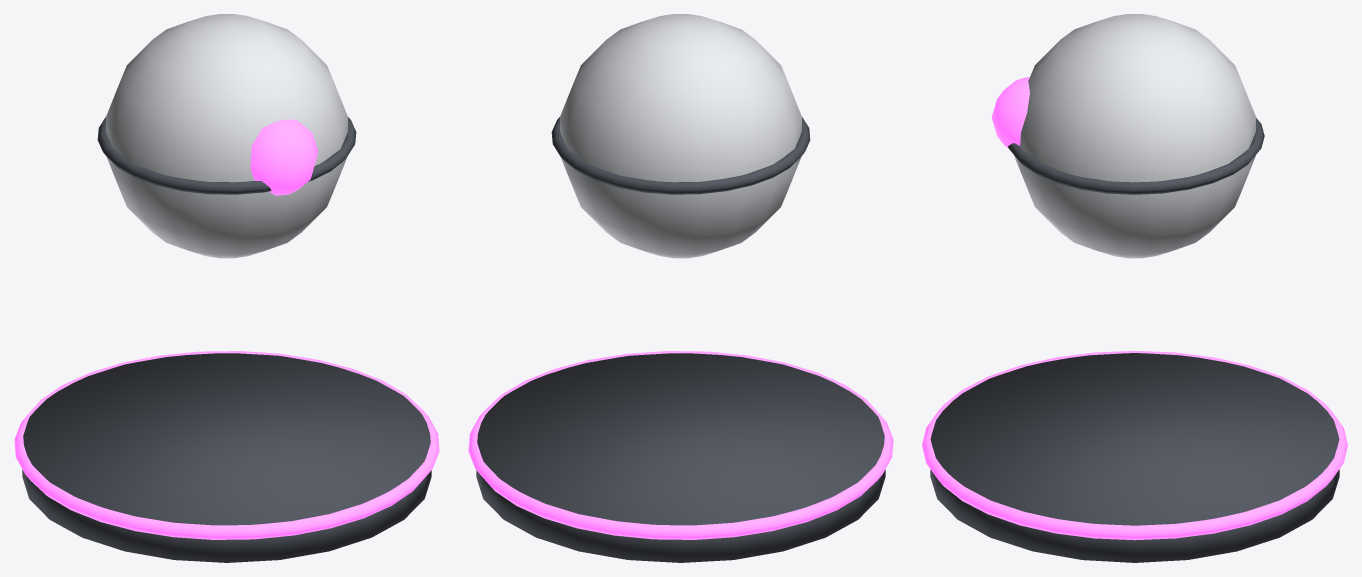
Rendered from drone_dock_orb_bot.glb.
3 renders of one model, left to right at view 1: azimuth 30°, elevation 25°; view 2: azimuth 150°, elevation 25°; view 3: azimuth 270°, elevation 25°, orthographic.
Visible parts, largest first — view 1: GD_drone_dock_orb_bot__m0, GD_drone_dock_orb_bot__m2, GD_drone_dock_orb_bot__m1; view 2: GD_drone_dock_orb_bot__m0, GD_drone_dock_orb_bot__m2, GD_drone_dock_orb_bot__m1; view 3: GD_drone_dock_orb_bot__m0, GD_drone_dock_orb_bot__m2, GD_drone_dock_orb_bot__m1.
Part boxes in pixels (left/top/right/bottom): GD_drone_dock_orb_bot__m0: left=22, top=117, right=431, bottom=562; GD_drone_dock_orb_bot__m2: left=106, top=14, right=347, bottom=258; GD_drone_dock_orb_bot__m1: left=14, top=119, right=439, bottom=539; GD_drone_dock_orb_bot__m0: left=476, top=117, right=885, bottom=562; GD_drone_dock_orb_bot__m2: left=560, top=14, right=801, bottom=258; GD_drone_dock_orb_bot__m1: left=468, top=351, right=893, bottom=539; GD_drone_dock_orb_bot__m0: left=930, top=118, right=1339, bottom=562; GD_drone_dock_orb_bot__m2: left=1014, top=14, right=1255, bottom=258; GD_drone_dock_orb_bot__m1: left=922, top=77, right=1347, bottom=540.
Bounding box in the file's own units: 0.624 × 0.73 × 0.624.
